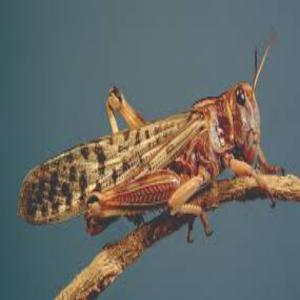locust: (17, 62, 263, 239)
